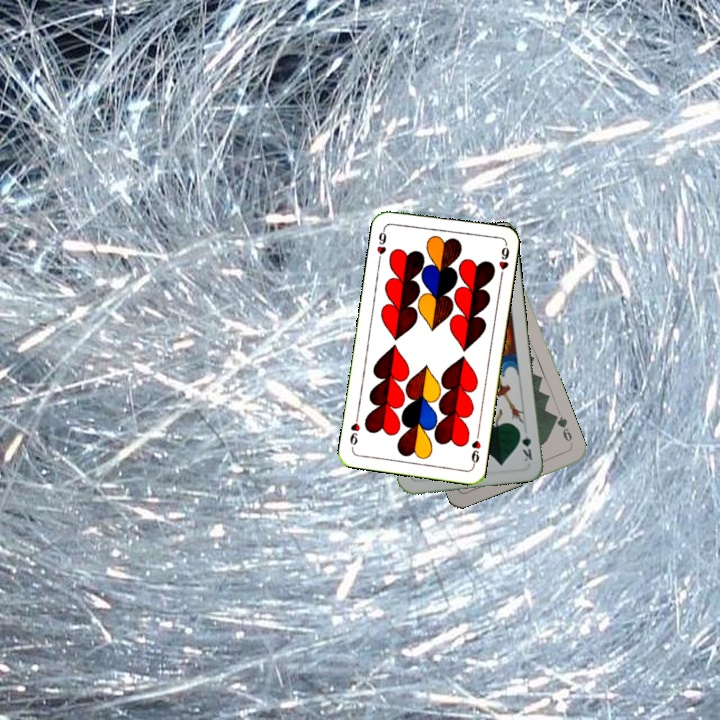G9: (551, 411, 576, 449)
GK: (515, 425, 535, 464)
H9: (467, 428, 483, 469), (373, 224, 389, 264)
